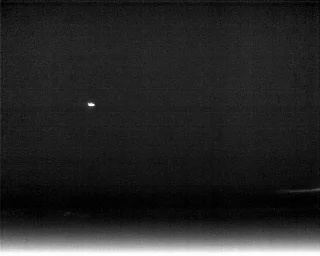AIRPLANE: (86, 100, 97, 109)
